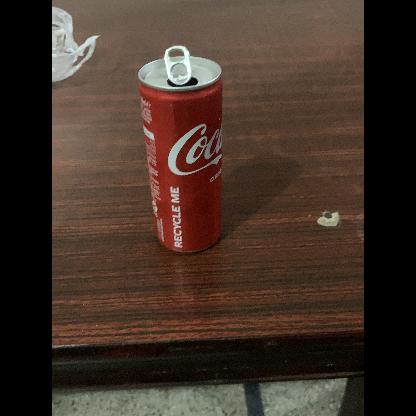Lid_Open: (160, 40, 206, 90)
Tin_Can: (134, 50, 230, 270)
